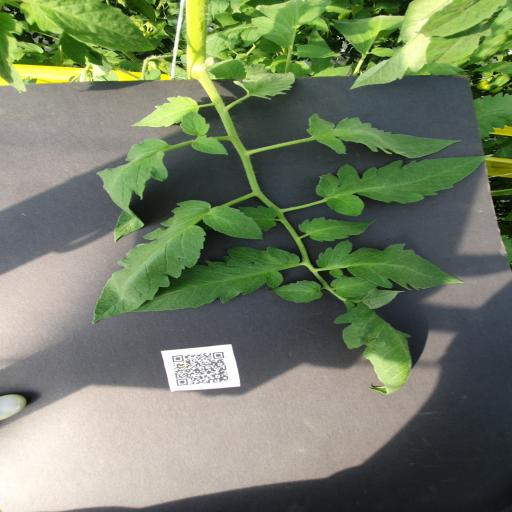Healthy: (90, 196, 265, 326), (126, 247, 310, 312), (314, 154, 493, 220), (96, 138, 173, 242), (333, 299, 414, 396), (317, 240, 467, 290), (306, 111, 462, 159), (19, 0, 157, 52), (250, 0, 332, 49), (207, 12, 263, 55), (131, 95, 199, 127), (298, 215, 376, 242), (232, 72, 296, 100), (265, 279, 323, 303), (330, 275, 378, 298), (206, 58, 248, 79), (179, 110, 211, 136), (189, 137, 230, 156), (295, 43, 342, 59), (371, 47, 398, 57)
